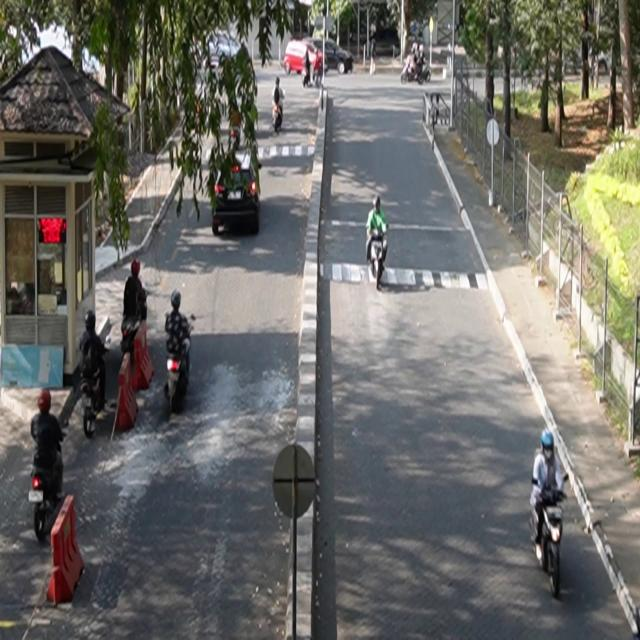car: (212, 145, 262, 237)
